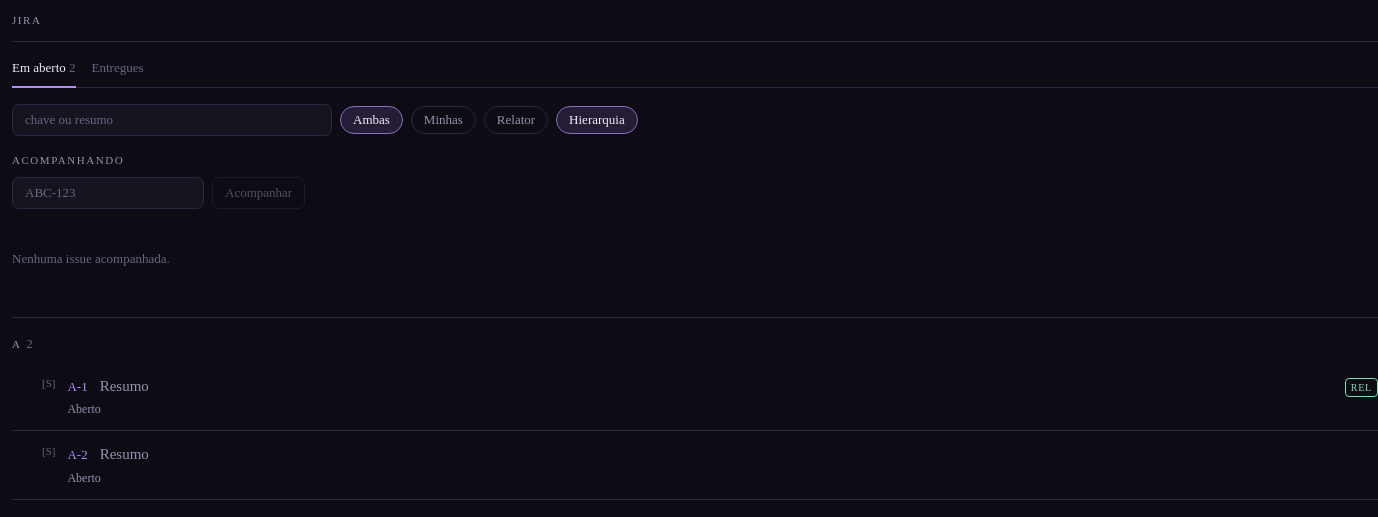
Test case: JiraPanel › mostra issues com papel both no filtro minhas
The image size is (1378, 517).
What coordinates should you click on to do the following:
click the button "Minhas"
I would click on:
 (443, 120)
Its box is x1=411 y1=106 x2=476 y2=134.
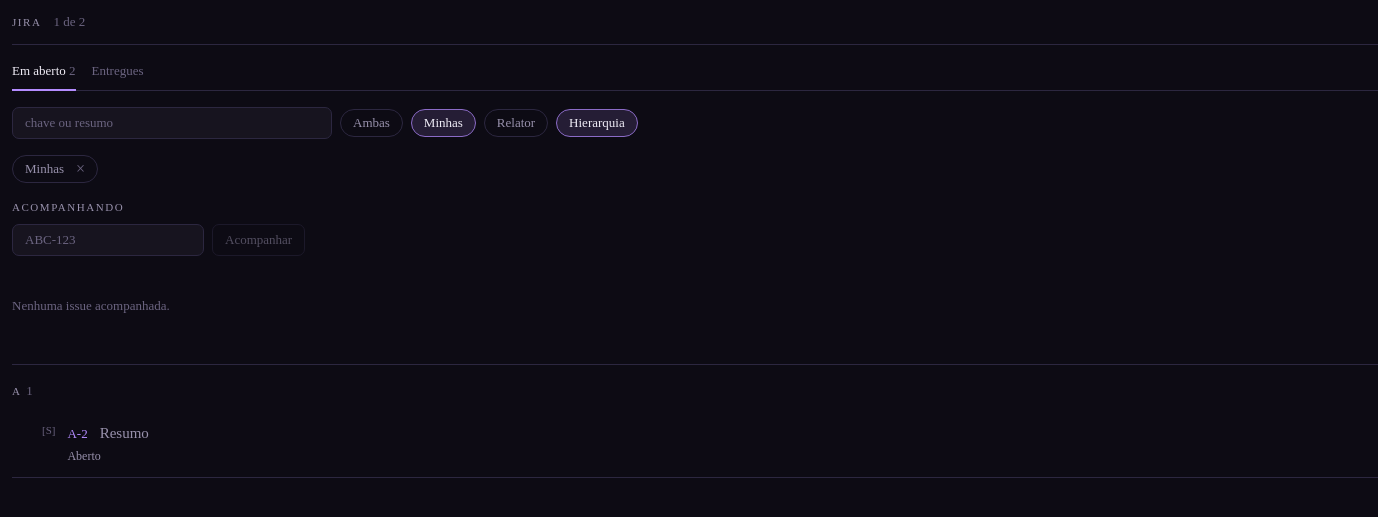
Expected: the link "A-2" is shown, x1=68 y1=424 x2=88 y2=444
Now the link "A-1" is gone
